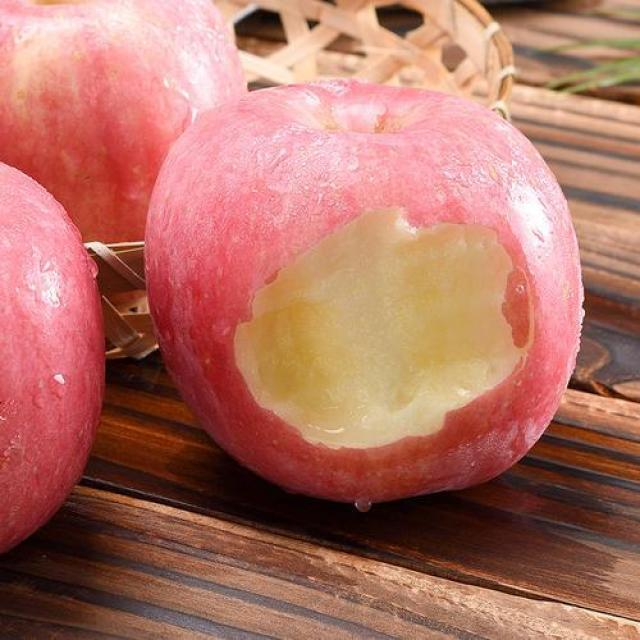rotten_apple: (148, 87, 574, 503)
